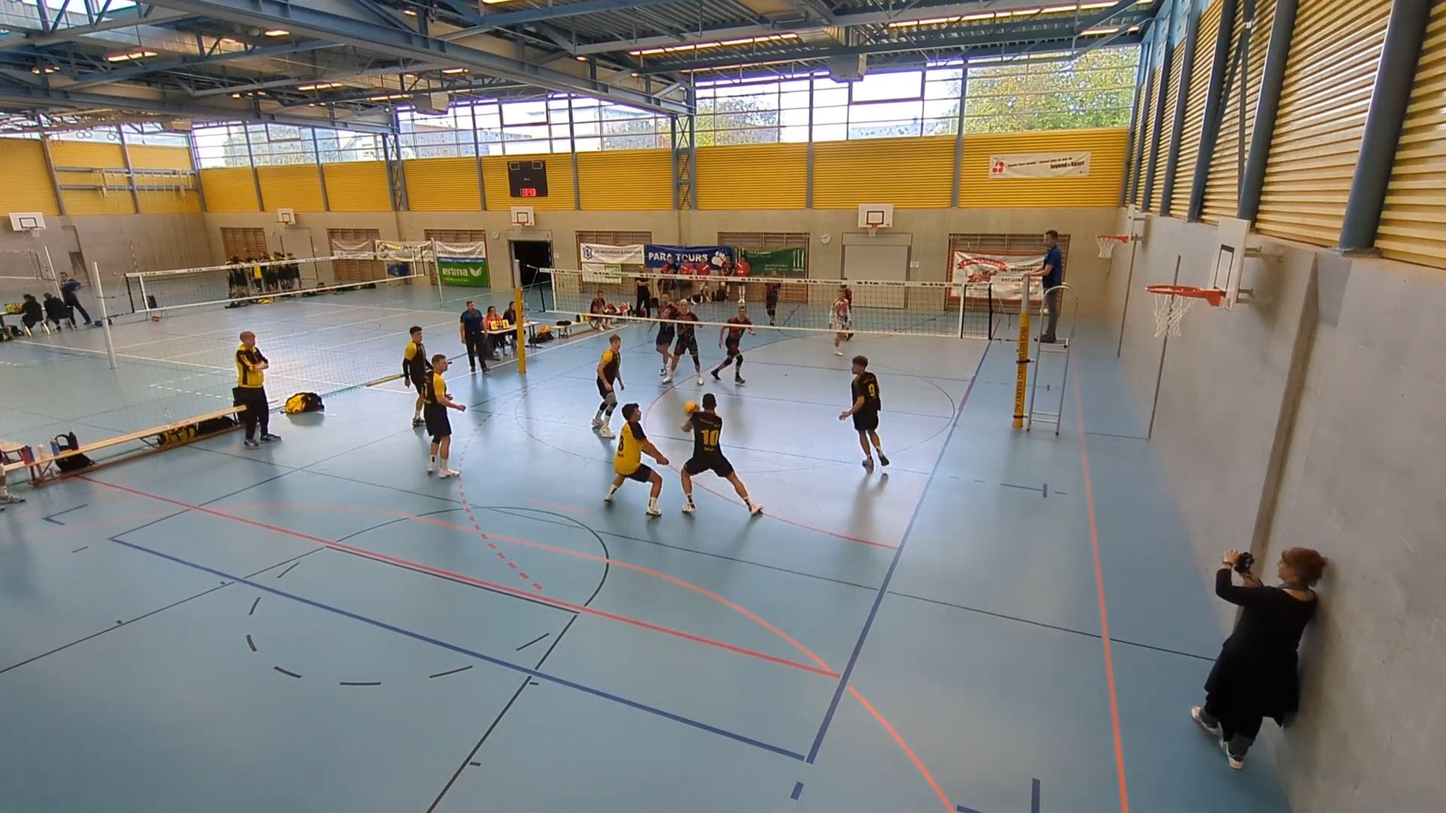Player: (681, 394, 762, 513), (604, 403, 668, 516), (839, 355, 889, 468), (423, 354, 465, 477), (662, 300, 703, 385), (711, 305, 754, 384), (592, 333, 624, 438), (402, 326, 432, 427), (655, 294, 676, 376), (829, 288, 850, 355), (764, 270, 780, 324)
Receive: (672, 396, 766, 519)
ball: (681, 399, 704, 413)
